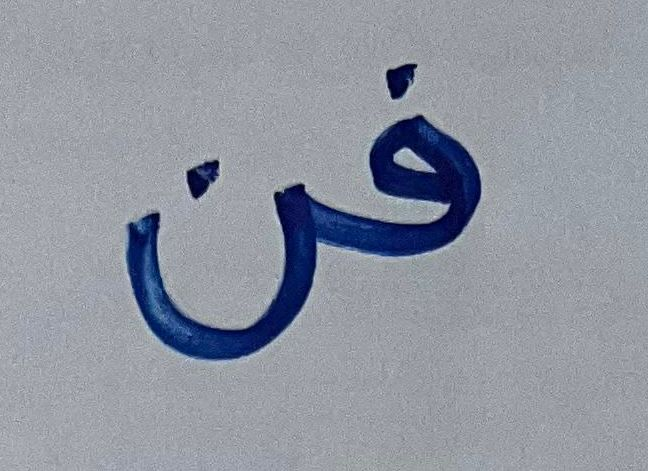noon: (99, 153, 331, 367)
qaf: (335, 55, 498, 279)
